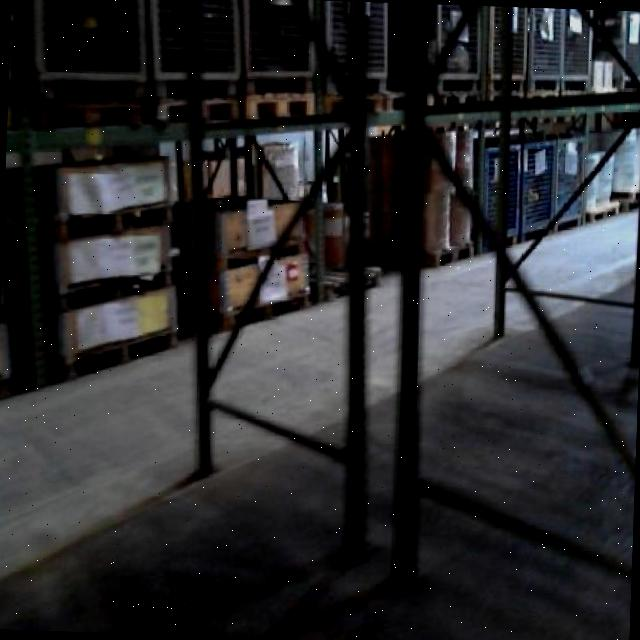pallet: (60, 320, 186, 389), (53, 260, 180, 320), (47, 196, 178, 245), (24, 98, 144, 135), (240, 90, 319, 125), (429, 233, 481, 273), (525, 71, 563, 99), (587, 200, 625, 226)
